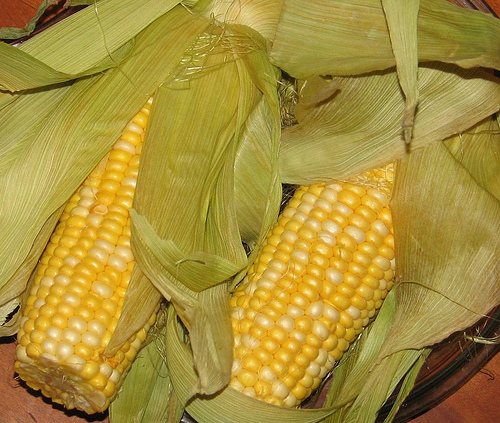corn: (12, 94, 154, 418), (229, 163, 397, 408)
